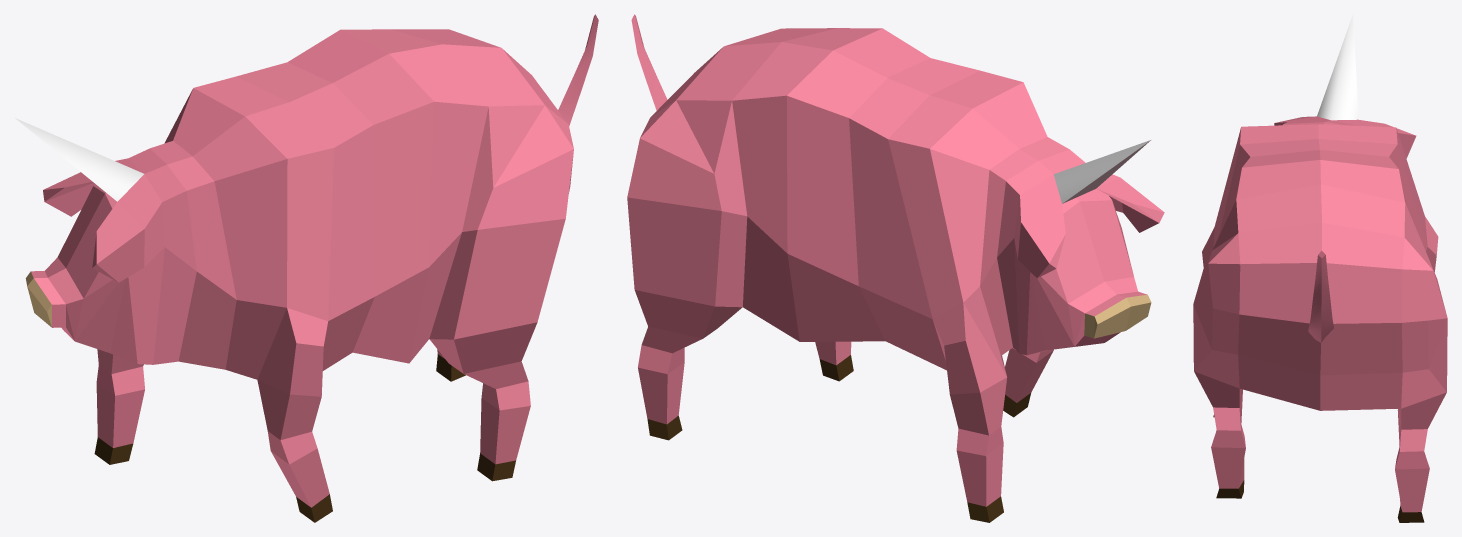
The model's file is pigRunning11.obj.
The picture shows the model from 3 angles, left to right: view 1: azimuth 30°, elevation 25°; view 2: azimuth 150°, elevation 25°; view 3: azimuth 270°, elevation 25°; orthographic projection. The views are drawn at different scales.
Parts seen in each view (by area): view 1: Pig_Cylinder.002_Pig_Cylinder.003; view 2: Pig_Cylinder.002_Pig_Cylinder.003; view 3: Pig_Cylinder.002_Pig_Cylinder.003.
Boxes of the visible parts, x1=… form: Pig_Cylinder.002_Pig_Cylinder.003: x1=15, y1=14, x2=598, y2=522; Pig_Cylinder.002_Pig_Cylinder.003: x1=627, y1=14, x2=1164, y2=522; Pig_Cylinder.002_Pig_Cylinder.003: x1=1193, y1=15, x2=1447, y2=522.
Bounding box in the file's own units: 22.88 × 15.54 × 11.11.
